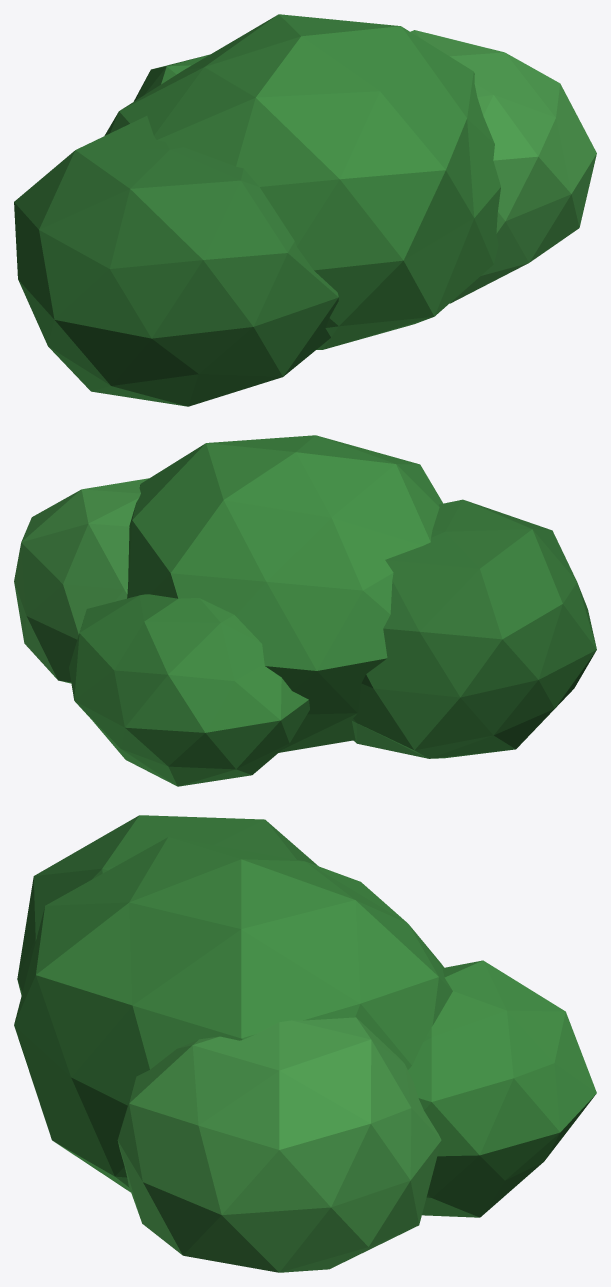
The model's file is bush.glb.
3 renders of one model, top to bottom at view 1: azimuth 30°, elevation 25°; view 2: azimuth 150°, elevation 25°; view 3: azimuth 270°, elevation 25°, orthographic. The views are drawn at different scales.
Visible parts, largest first — view 1: Body; view 2: Body; view 3: Body.
Part boxes in pixels (left/top/right/bottom): Body: left=14, top=14, right=596, bottom=406; Body: left=14, top=435, right=596, bottom=786; Body: left=14, top=815, right=596, bottom=1272.
Bounding box in the file's own units: 1.94 × 1.02 × 1.53.
